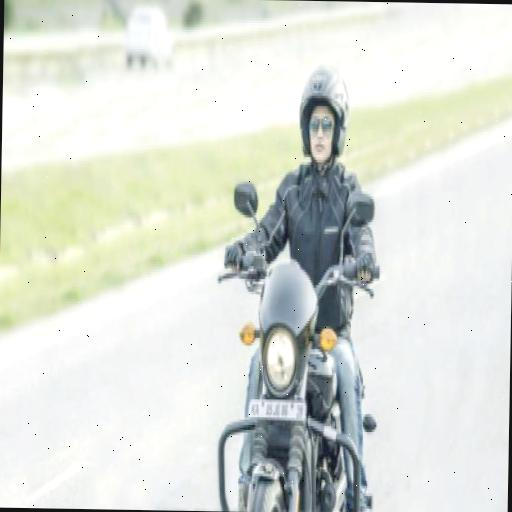helmet: (210, 16, 388, 512)
